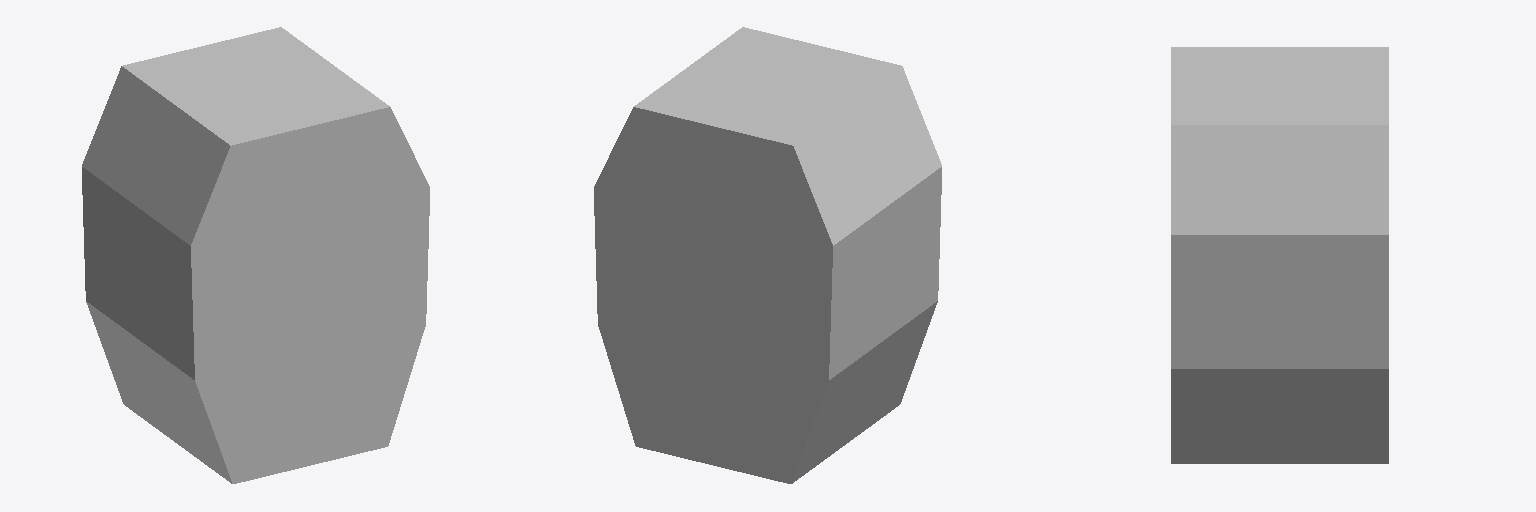
Rendered from head.obj.
3 renders of one model, left to right at view 1: azimuth 30°, elevation 25°; view 2: azimuth 150°, elevation 25°; view 3: azimuth 270°, elevation 25°, orthographic.
Parts seen in each view (by area): view 1: geo__head; view 2: geo__head; view 3: geo__head.
Part boxes in pixels (bbox=[...]): geo__head: bbox=[82, 27, 429, 483]; geo__head: bbox=[594, 27, 941, 483]; geo__head: bbox=[1171, 47, 1388, 463].
Bounding box in the file's own units: 4.43 × 6 × 3.5.